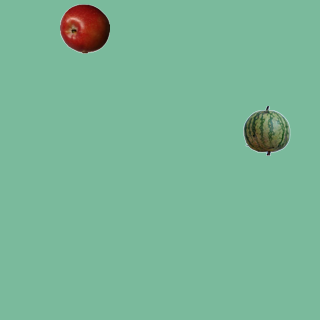Apple Braeburn: (59, 3, 109, 53)
Watermelon: (241, 105, 291, 155)
